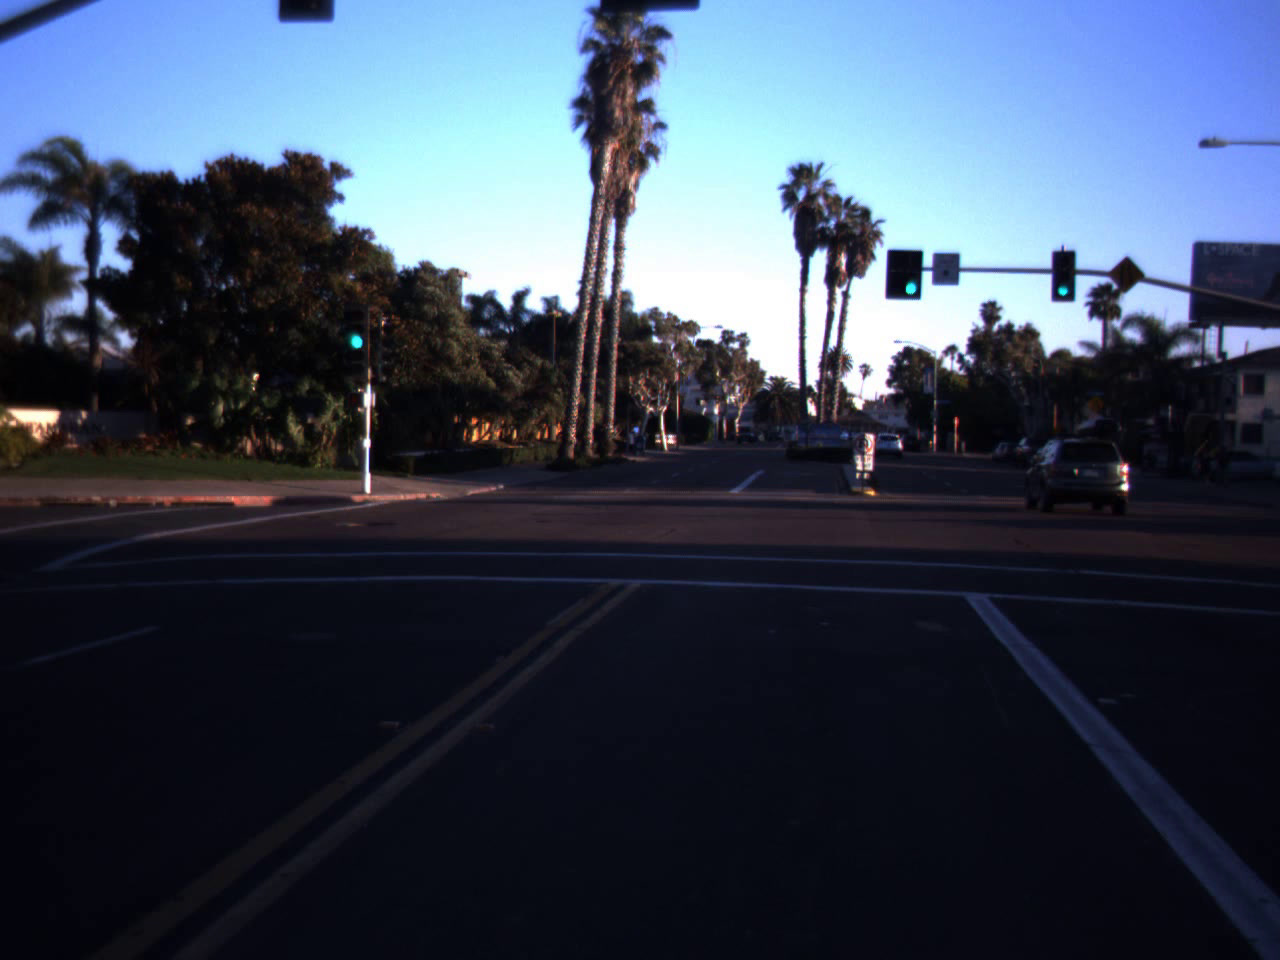go: (342, 294, 372, 354), (897, 244, 924, 299), (1053, 263, 1074, 298)
